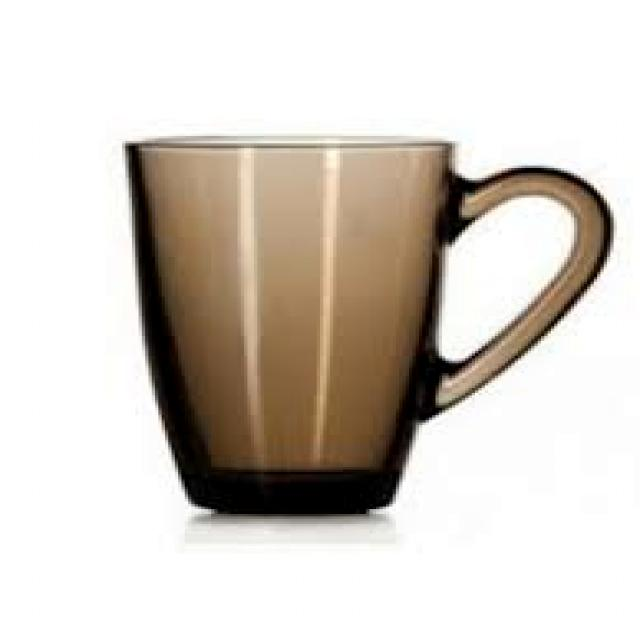Glass: (117, 126, 613, 524)
